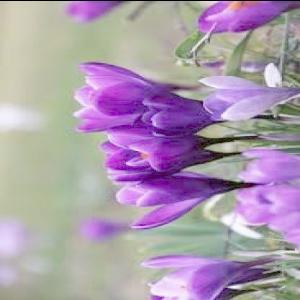Saffron: (115, 168, 240, 228), (74, 57, 178, 126), (105, 128, 223, 180), (142, 253, 252, 300), (201, 72, 300, 120)
